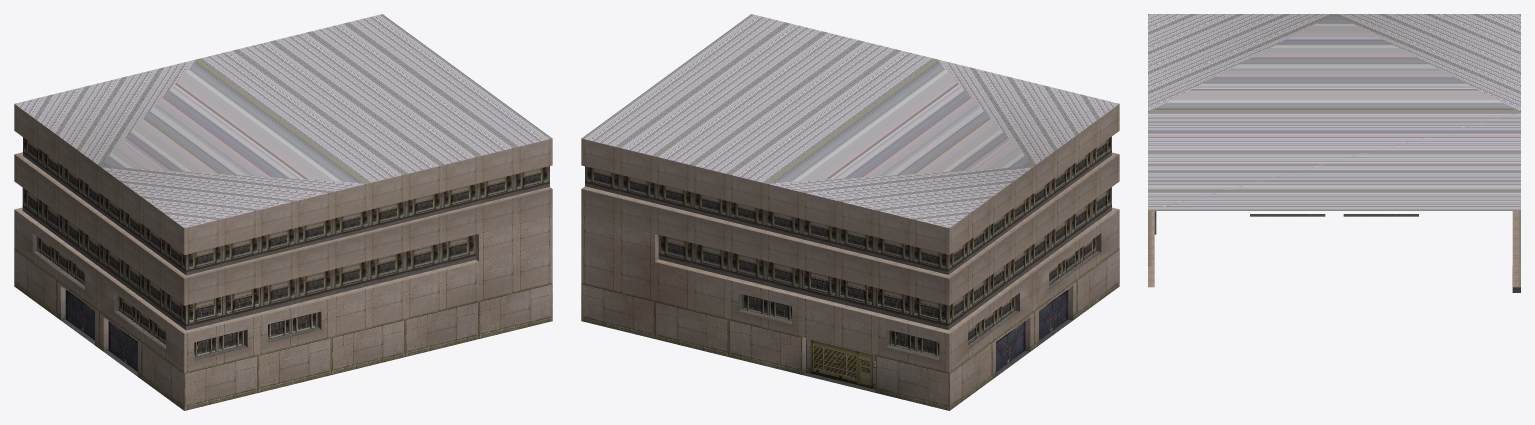
The model's file is M2Zone5_Building14Embassy.glb.
The picture shows the model from 3 angles, left to right: view 1: azimuth 30°, elevation 25°; view 2: azimuth 150°, elevation 25°; view 3: azimuth 270°, elevation 25°; orthographic projection. The views are drawn at different scales.
Visible parts, largest first — view 1: M2ZONE5_BUILDING14EMBASSY; view 2: M2ZONE5_BUILDING14EMBASSY; view 3: M2ZONE5_BUILDING14EMBASSY.
Part boxes in pixels (box(x1,y1,x2,y2)): M2ZONE5_BUILDING14EMBASSY: box(14, 14, 552, 410); M2ZONE5_BUILDING14EMBASSY: box(581, 14, 1119, 410); M2ZONE5_BUILDING14EMBASSY: box(1148, 14, 1520, 292).
Size of the model in its own units: 40 by 18.96 by 32.
Materials: 6 (6 with a texture image).
